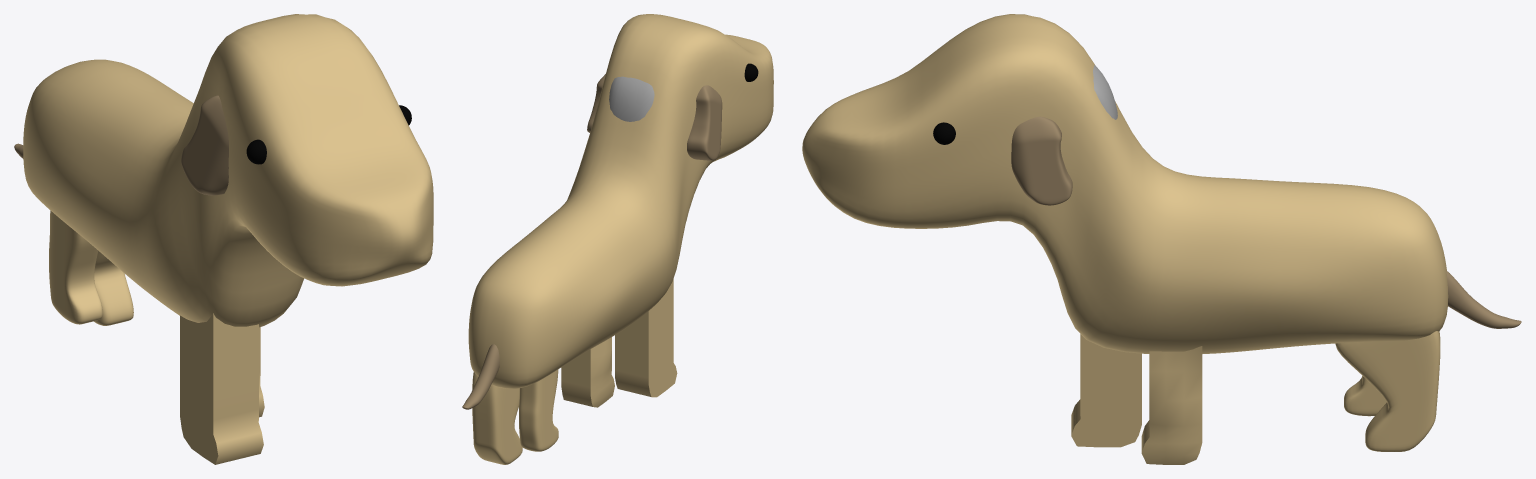
3 views of the same model, side by side, from view 1: azimuth 30°, elevation 25°; view 2: azimuth 150°, elevation 25°; view 3: azimuth 270°, elevation 25° (orthographic). The views are drawn at different scales.
Parts seen in each view (by area): view 1: pCube10, pCube2, pCube5, polySurface3, pCube4; view 2: pCube10, pCube2, pCube4, pCube3, pCube5, polySurface3, pCube9, pCube6; view 3: pCube10, pCube4, pCube2, pCube3, polySurface2, pCube6, pCube5.
Boxes of the visible parts, left/top/right/bottom form: pCube10: left=23, top=14, right=433, bottom=327; pCube2: left=180, top=313, right=263, bottom=464; pCube5: left=49, top=210, right=102, bottom=324; polySurface3: left=181, top=95, right=228, bottom=195; pCube4: left=94, top=251, right=133, bottom=325; pCube10: left=468, top=14, right=773, bottom=388; pCube2: left=615, top=279, right=677, bottom=397; pCube4: left=472, top=372, right=522, bottom=464; pCube3: left=561, top=337, right=614, bottom=407; pCube5: left=519, top=369, right=558, bottom=451; polySurface3: left=687, top=85, right=722, bottom=160; pCube9: left=609, top=76, right=654, bottom=121; pCube6: left=462, top=344, right=499, bottom=409; pCube10: left=802, top=14, right=1448, bottom=353; pCube4: left=1335, top=331, right=1440, bottom=451; pCube2: left=1071, top=334, right=1141, bottom=447; pCube3: left=1141, top=346, right=1202, bottom=464; polySurface2: left=1011, top=116, right=1072, bottom=205; pCube6: left=1446, top=271, right=1521, bottom=328; pCube5: left=1344, top=376, right=1386, bottom=416.
Size of the model in its own units: 1.16 by 3.08 by 4.83.
